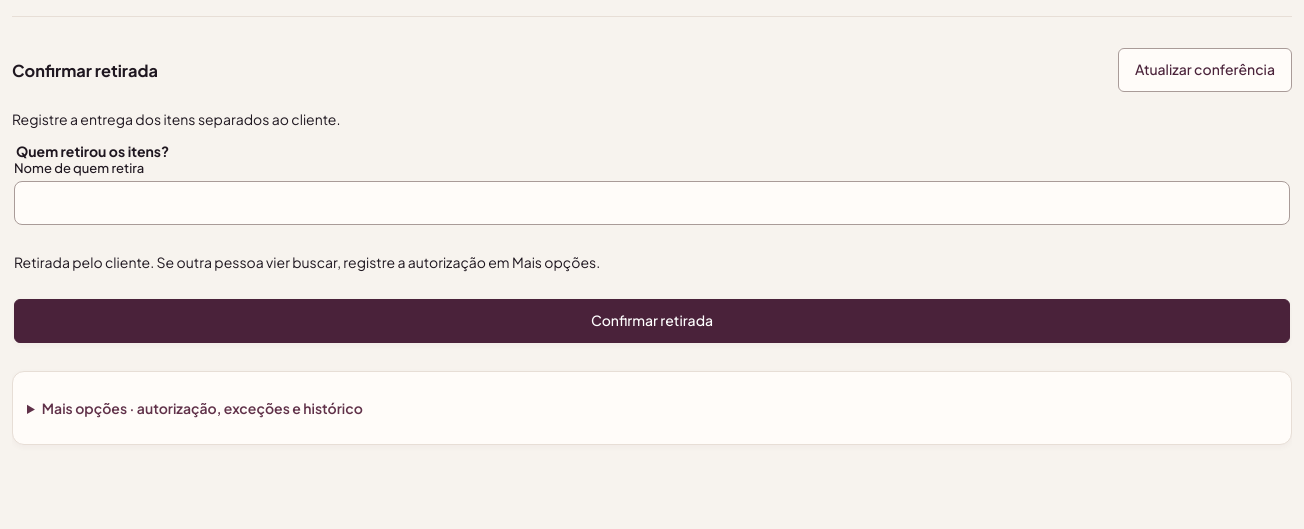
Scenario: does not mark an unsaved or outdated preparation as ready on pickup
The image size is (1304, 529).
Step 1. Type "Cliente sintético" into the field labelled "Nome de quem retira" → (652, 203), box [14,181,1290,225]
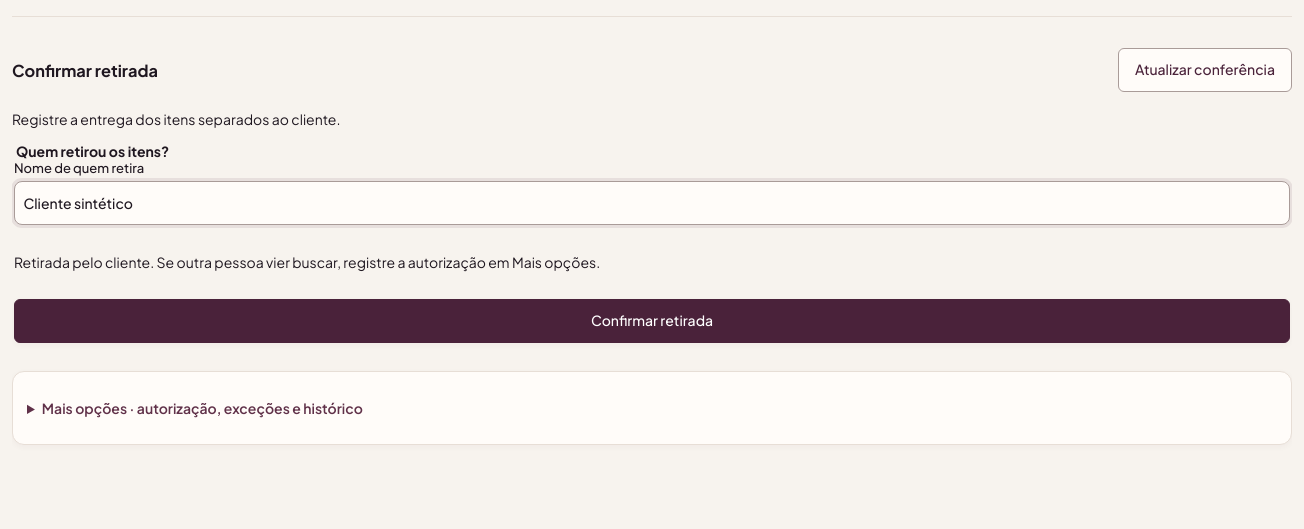
Step 2. Click the button "Confirmar retirada" → (652, 321), box [14,299,1290,343]
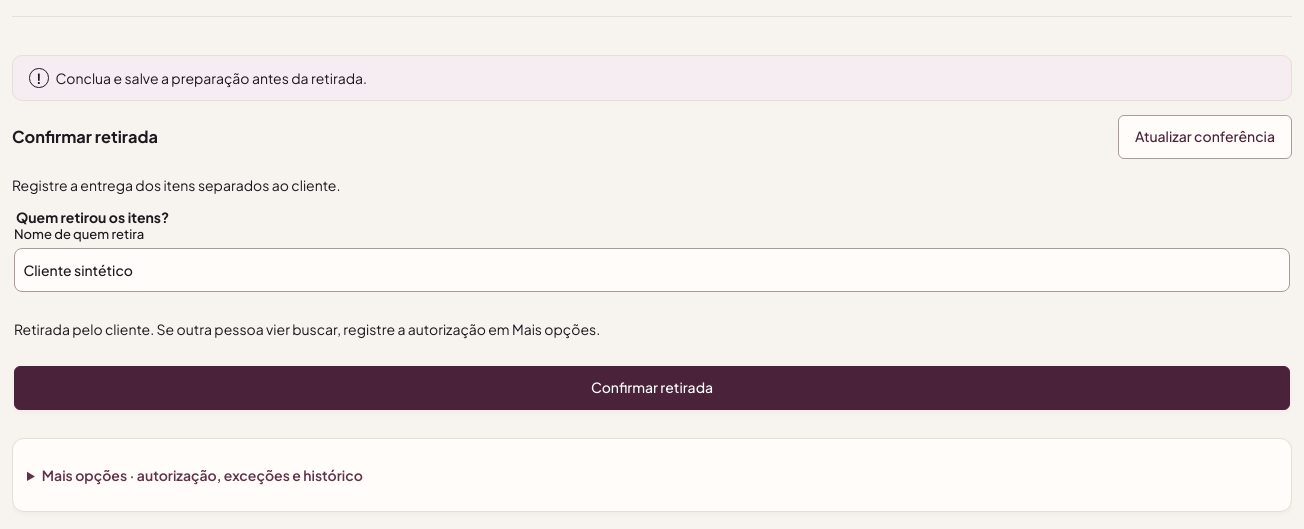
Now the message shows "Conclua e salve a preparação", box [56,69,367,87]
